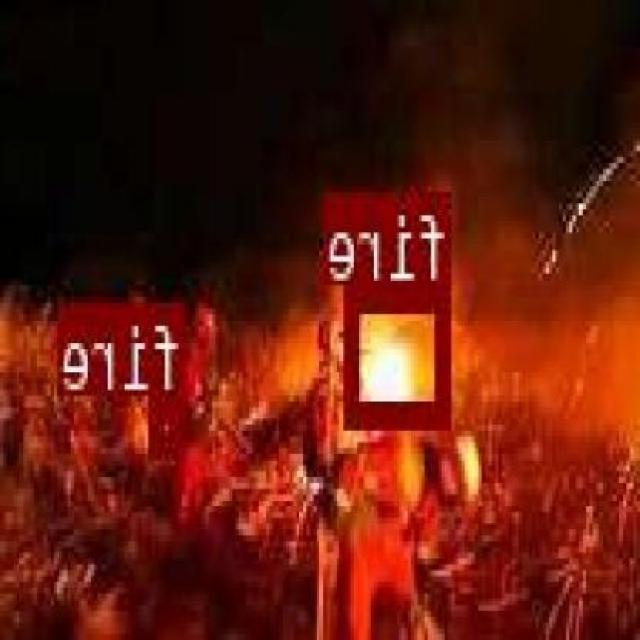Fire: (346, 285, 452, 423)
